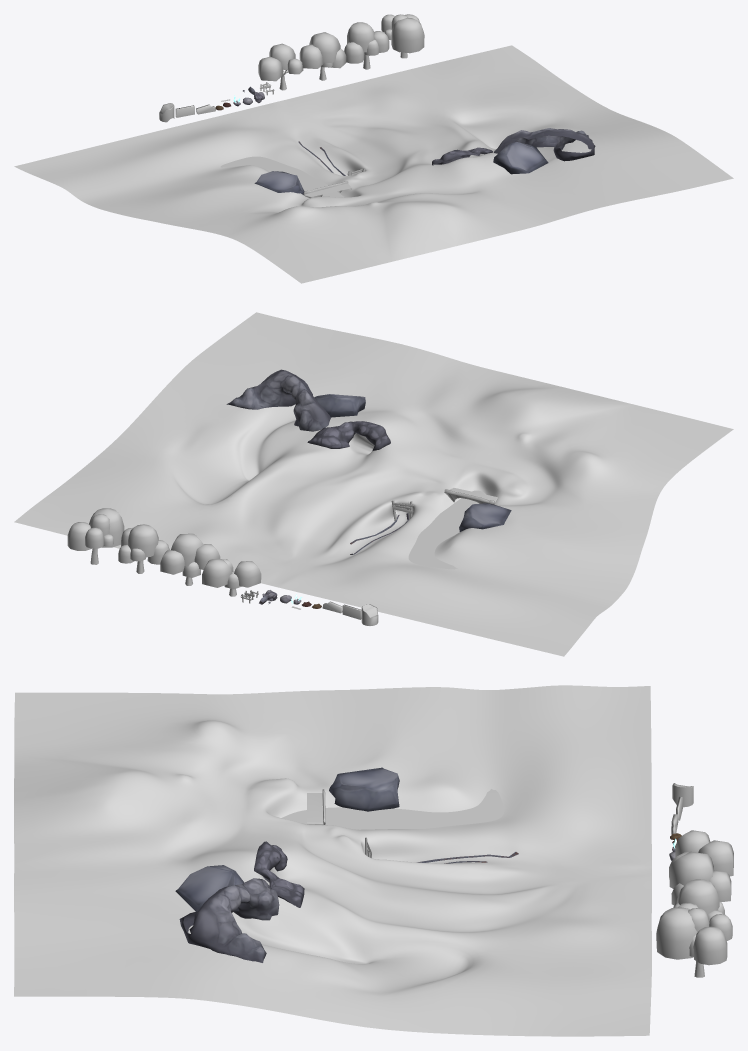
File: env_ShootingRange.fbx
3 views of the same model, one above another, from view 1: azimuth 30°, elevation 25°; view 2: azimuth 150°, elevation 25°; view 3: azimuth 270°, elevation 25° (orthographic). The views are drawn at different scales.
Visible parts, largest first — view 1: env_Land, env_OverheadRock, env_TreeA_01, env_TreeA_02, env_TreeB_01, env_TreeB_02, env_CatapultSlimeSpawnRock02, env_Water, env_CatapultSlimeSpawnRock01, env_CaveEntrance; view 2: env_Land, env_OverheadRock, env_Water, env_TreeA_01, env_TreeB_01, env_TreeA_02, env_TreeB_02, env_CaveEntrance, env_CatapultSlimeSpawnRock01, env_CatapultSlimeSpawnRock02; view 3: env_Land, env_OverheadRock, env_TreeA_01, env_Water, env_CatapultSlimeSpawnRock01, env_TreeB_01, env_CatapultSlimeSpawnRock02, env_CaveEntrance, env_TreeB_02, env_TreeA_02, env_Bridge.
Boxes of the visible parts, bbox=[...] form: env_Land: bbox=[14, 45, 733, 283]; env_OverheadRock: bbox=[494, 128, 595, 161]; env_TreeA_01: bbox=[381, 14, 424, 58]; env_TreeA_02: bbox=[344, 22, 389, 69]; env_TreeB_01: bbox=[299, 32, 346, 80]; env_TreeB_02: bbox=[258, 43, 303, 90]; env_CatapultSlimeSpawnRock02: bbox=[493, 142, 548, 174]; env_Water: bbox=[220, 156, 344, 197]; env_CatapultSlimeSpawnRock01: bbox=[254, 171, 304, 194]; env_CaveEntrance: bbox=[432, 147, 492, 165]; env_Land: bbox=[14, 312, 733, 656]; env_OverheadRock: bbox=[226, 369, 331, 431]; env_Water: bbox=[408, 490, 485, 569]; env_TreeA_01: bbox=[67, 508, 124, 564]; env_TreeB_01: bbox=[160, 533, 220, 585]; env_TreeA_02: bbox=[118, 524, 169, 573]; env_TreeB_02: bbox=[202, 559, 261, 596]; env_CaveEntrance: bbox=[307, 421, 390, 450]; env_CatapultSlimeSpawnRock01: bbox=[459, 503, 511, 531]; env_CatapultSlimeSpawnRock02: bbox=[314, 394, 365, 417]; env_Land: bbox=[14, 685, 651, 1036]; env_OverheadRock: bbox=[179, 878, 279, 962]; env_TreeA_01: bbox=[656, 907, 732, 977]; env_Water: bbox=[282, 789, 504, 829]; env_CatapultSlimeSpawnRock01: bbox=[329, 767, 399, 811]; env_TreeB_01: bbox=[669, 851, 731, 905]; env_CatapultSlimeSpawnRock02: bbox=[175, 865, 244, 911]; env_CaveEntrance: bbox=[254, 841, 304, 907]; env_TreeB_02: bbox=[675, 830, 733, 876]; env_TreeA_02: bbox=[673, 879, 724, 920]; env_Bridge: bbox=[307, 789, 325, 824].
Bounding box in the file's own units: 8298 × 1005 × 7192.
